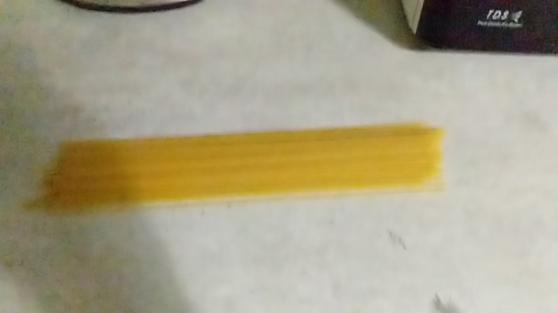spaghetti: (19, 117, 473, 222)
